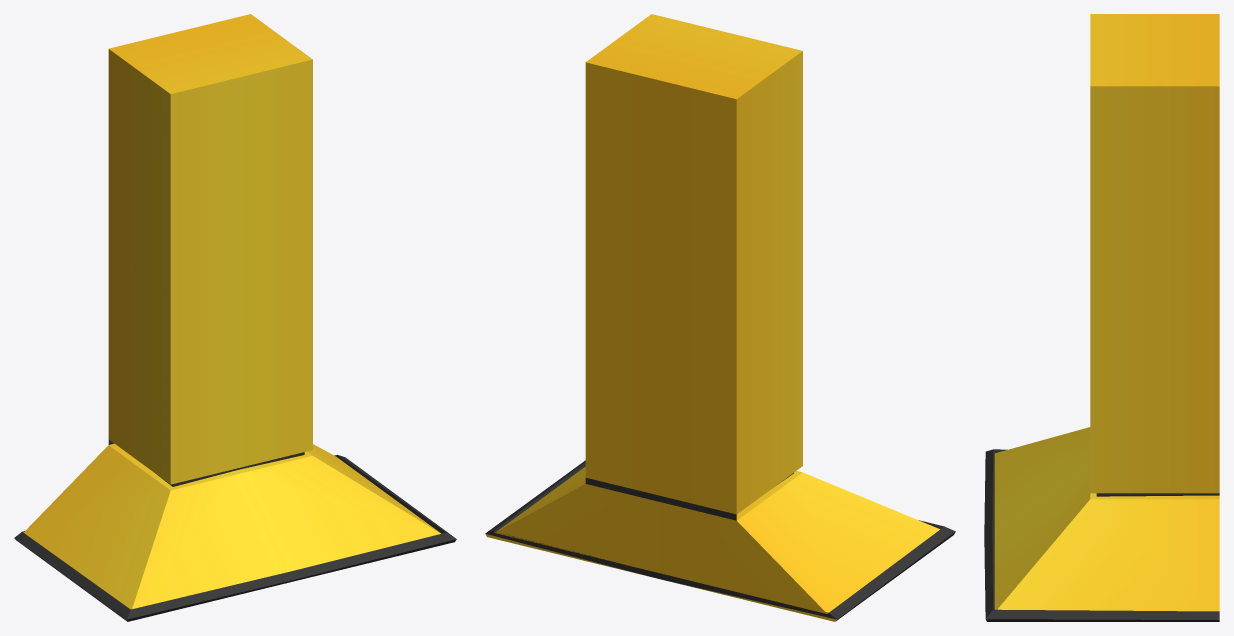
Rendered from Bell con UV.fbx.
3 views of the same model, side by side, from view 1: azimuth 30°, elevation 25°; view 2: azimuth 150°, elevation 25°; view 3: azimuth 270°, elevation 25° (orthographic). The views are drawn at different scales.
Parts seen in each view (by area): view 1: Cube.002; view 2: Cube.002; view 3: Cube.002.
Boxes of the visible parts, box(x1,y1,x2,y2) form: Cube.002: box(14, 14, 456, 621); Cube.002: box(485, 14, 955, 621); Cube.002: box(984, 14, 1219, 621).
Size of the model in its own units: 349 by 472 by 206.
